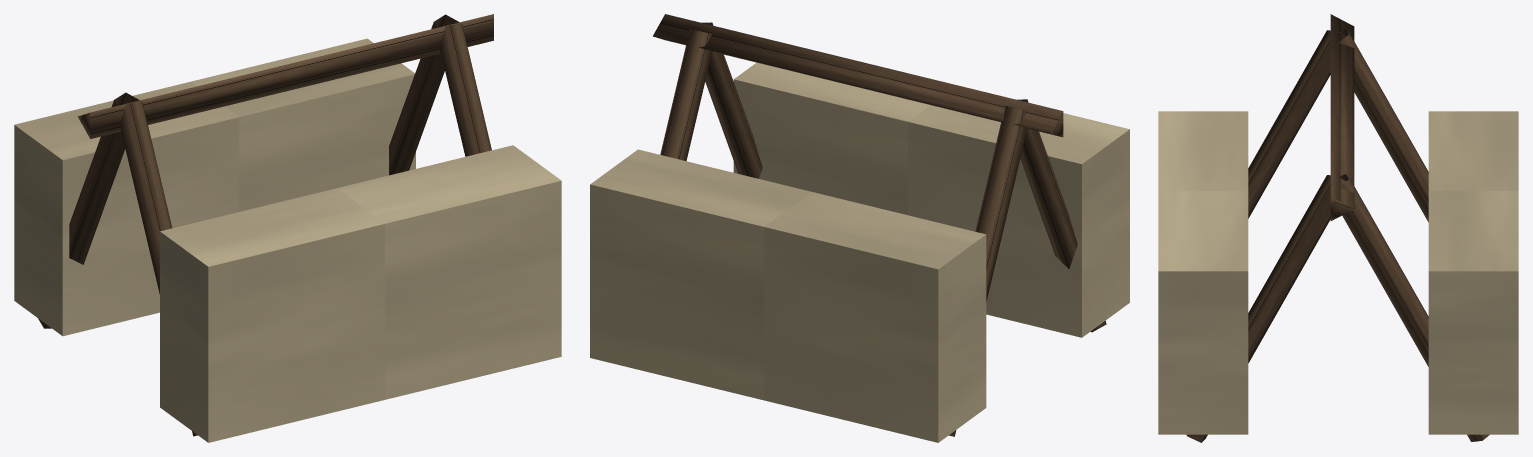
File: PackSaddle_1_LOD2.gltf
3 views of the same model, side by side, from view 1: azimuth 30°, elevation 25°; view 2: azimuth 150°, elevation 25°; view 3: azimuth 270°, elevation 25° (orthographic). The views are drawn at different scales.
Visible parts, largest first — view 1: PackSaddle_1_LOD2; view 2: PackSaddle_1_LOD2; view 3: PackSaddle_1_LOD2.
Boxes of the visible parts, x1,y1,x2,y2 form: PackSaddle_1_LOD2: [14, 14, 561, 442]; PackSaddle_1_LOD2: [590, 14, 1129, 442]; PackSaddle_1_LOD2: [1158, 14, 1518, 442].
Size of the model in its own units: 0.96 by 0.6462 by 0.8.
Materials: 2 (2 with a texture image).
